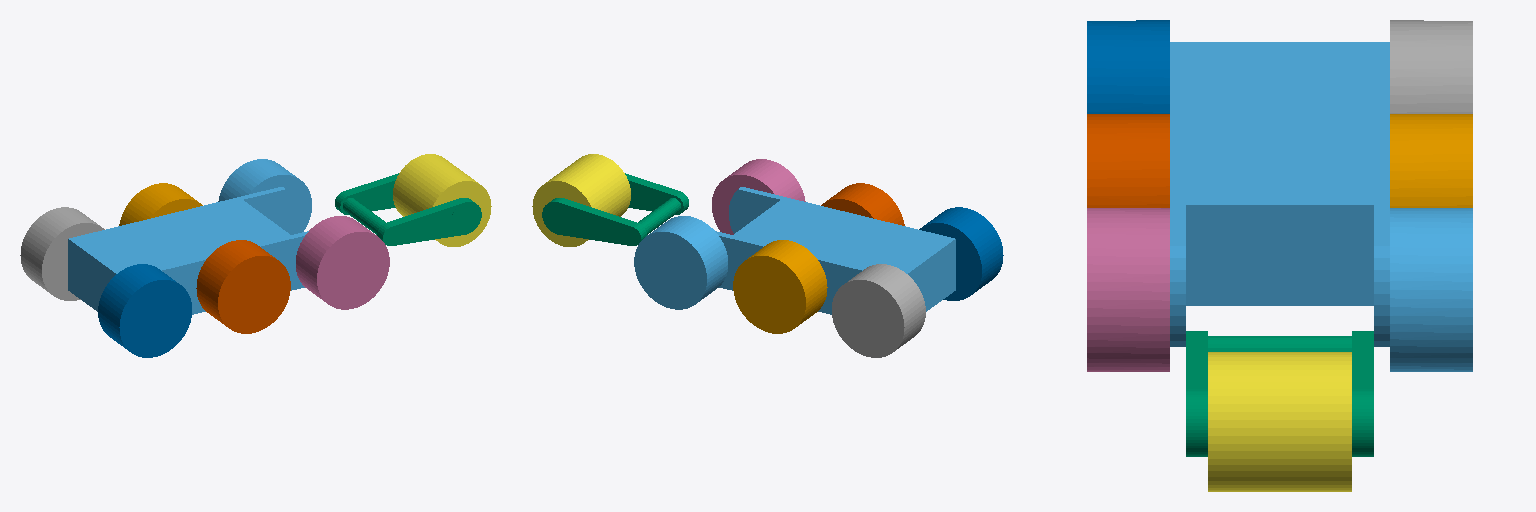
The robot description file, URDF, robot "fire_robot":
<?xml version="1.0" ?>
<!-- =================================================================================== -->
<!-- |    This document was autogenerated by xacro from [local-path]/fire_ws/install/fire_description/share/fire_description/urdf/fire_robot.xacro | -->
<!-- |    EDITING THIS FILE BY HAND IS NOT RECOMMENDED                                 | -->
<!-- =================================================================================== -->
<robot name="fire_robot">
  <!-- xacro 루트 링크에 inertial 있으면 경고 띄움. dummy용-->
  <link name="base_footprint"/>
  <joint name="base_footprint_joint" type="fixed">
    <parent link="base_footprint"/>
    <child link="base_link"/>
    <origin rpy="0 0 0" xyz="0 0 0"/>
  </joint>
  <!-- ========== base_link (루트) ========== -->
  <link name="base_link">
    <inertial>
      <origin rpy="0 0 0" xyz="0 0 0"/>
      <mass value="6.0"/>
      <inertia ixx="0.02" ixy="0" ixz="0" iyy="0.02" iyz="0" izz="0.02"/>
    </inertial>
    <visual>
      <origin rpy="0 0 0" xyz="0 0 0"/>
      <geometry>
        <mesh filename="package://fire_description/meshes/base_link_Body1.obj" scale="0.001 0.001 0.001"/>
      </geometry>
    </visual>
    <collision>
      <origin rpy="0 0 0" xyz="0 0 0"/>
      <geometry>
        <mesh filename="package://fire_description/meshes/base_link_Body1.obj" scale="0.001 0.001 0.001"/>
      </geometry>
    </collision>
  </link>
  <!-- ========== ARM ========== -->
  <joint name="arm_joint" type="revolute">
    <origin rpy="0 0 0" xyz="0.2765 0 0"/>
    <parent link="base_link"/>
    <child link="arm"/>
    <axis xyz="0 1 0"/>
    <limit effort="50" lower="-0.5" upper="0.5" velocity="1.0"/>
    <!-- dynamic damping -->
    <dynamics damping="0.05" friction="0.2"/>
  </joint>
  <link name="arm">
    <inertial>
      <origin rpy="0 0 0" xyz="0 0 0"/>
      <mass value="0.4"/>
      <inertia ixx="0.001" ixy="0" ixz="0" iyy="0.001" iyz="0" izz="0.001"/>
    </inertial>
    <visual>
      <origin rpy="0 0 0" xyz="0 0 0"/>
      <geometry>
        <mesh filename="package://fire_description/meshes/arm_Body1.obj" scale="0.001 0.001 0.001"/>
      </geometry>
    </visual>
    <collision>
      <origin rpy="0 0 0" xyz="0 0 0"/>
      <geometry>
        <mesh filename="package://fire_description/meshes/arm_Body1.obj" scale="0.001 0.001 0.001"/>
      </geometry>
    </collision>
  </link>
  <!-- ========== BLADE ========== -->
  <joint name="blade_joint" type="continuous">
    <origin rpy="0 0 0" xyz="0. 0 0"/>
    <parent link="arm"/>
    <child link="blade"/>
    <axis xyz="0 1 0"/>
    <limit effort="5.0" velocity="200.0"/>
    <dynamics damping="0.01" friction="0.05"/>
  </joint>
  <link name="blade">
    <inertial>
      <origin rpy="0 0 0" xyz="0 0 0"/>
      <mass value="2.7"/>
      <inertia ixx="0.005" ixy="0" ixz="0" iyy="0.005" iyz="0" izz="0.005"/>
    </inertial>
    <visual>
      <origin rpy="0 0 0" xyz="0 0 0"/>
      <geometry>
        <mesh filename="package://fire_description/meshes/blade_Body1.obj" scale="0.001 0.001 0.001"/>
      </geometry>
    </visual>
    <collision>
      <origin rpy="0 0 0" xyz="0 0 0"/>
      <geometry>
        <mesh filename="package://fire_description/meshes/blade_Body1.obj" scale="0.001 0.001 0.001"/>
      </geometry>
    </collision>
  </link>
  <!-- ========== LEFT WHEELS (parent=base_link) ========== -->
  <joint name="left_wheel_1_joint" type="continuous">
    <origin rpy="0 0 0" xyz="0 0 0"/>
    <parent link="base_link"/>
    <child link="left_wheel1"/>
    <axis xyz="0 1 0"/>
    <dynamics damping="0.05" friction="0.0"/>
    <limit effort="5.0" velocity="0.26"/>
  </joint>
  <link name="left_wheel1">
    <inertial>
      <origin rpy="0 0 0" xyz="0 0 0"/>
      <mass value="2.5"/>
      <inertia ixx="0.002" ixy="0" ixz="0" iyy="0.002" iyz="0" izz="0.002"/>
    </inertial>
    <visual>
      <origin rpy="0 0 0" xyz="0 0 0"/>
      <geometry>
        <mesh filename="package://fire_description/meshes/left_wheel1_Body1.obj" scale="0.001 0.001 0.001"/>
      </geometry>
    </visual>
    <collision>
      <origin rpy="0 0 0" xyz="0 0 0"/>
      <geometry>
        <mesh filename="package://fire_description/meshes/left_wheel1_Body1.obj" scale="0.001 0.001 0.001"/>
      </geometry>
    </collision>
  </link>
  <joint name="left_wheel_2_joint" type="continuous">
    <origin rpy="0 0 0" xyz="0 0 0"/>
    <parent link="base_link"/>
    <child link="left_wheel2"/>
    <axis xyz="0 1 0"/>
    <dynamics damping="0.05" friction="0.0"/>
    <limit effort="5.0" velocity="0.26"/>
  </joint>
  <link name="left_wheel2">
    <inertial>
      <origin rpy="0 0 0" xyz="0 0 0"/>
      <mass value="2.5"/>
      <inertia ixx="0.002" ixy="0" ixz="0" iyy="0.002" iyz="0" izz="0.002"/>
    </inertial>
    <visual>
      <origin rpy="0 0 0" xyz="0 0 0"/>
      <geometry>
        <mesh filename="package://fire_description/meshes/left_wheel2_Body1.obj" scale="0.001 0.001 0.001"/>
      </geometry>
    </visual>
    <collision>
      <origin rpy="0 0 0" xyz="0 0 0"/>
      <geometry>
        <mesh filename="package://fire_description/meshes/left_wheel2_Body1.obj" scale="0.001 0.001 0.001"/>
      </geometry>
    </collision>
  </link>
  <joint name="left_wheel_3_joint" type="continuous">
    <origin rpy="0 0 0" xyz="0 0 0"/>
    <parent link="base_link"/>
    <child link="left_wheel3"/>
    <axis xyz="0 1 0"/>
    <dynamics damping="0.05" friction="0.0"/>
    <limit effort="5.0" velocity="0.26"/>
  </joint>
  <link name="left_wheel3">
    <inertial>
      <origin rpy="0 0 0" xyz="0 0 0"/>
      <mass value="2.5"/>
      <inertia ixx="0.002" ixy="0" ixz="0" iyy="0.002" iyz="0" izz="0.002"/>
    </inertial>
    <visual>
      <origin rpy="0 0 0" xyz="0 0 0"/>
      <geometry>
        <mesh filename="package://fire_description/meshes/left_wheel3_Body1.obj" scale="0.001 0.001 0.001"/>
      </geometry>
    </visual>
    <collision>
      <origin rpy="0 0 0" xyz="0 0 0"/>
      <geometry>
        <mesh filename="package://fire_description/meshes/left_wheel3_Body1.obj" scale="0.001 0.001 0.001"/>
      </geometry>
    </collision>
  </link>
  <!-- ========== RIGHT WHEELS ========== -->
  <joint name="right_wheel_1_joint" type="continuous">
    <origin rpy="0 0 0" xyz="0 0 0"/>
    <parent link="base_link"/>
    <child link="right_wheel1"/>
    <axis xyz="0 1 0"/>
    <dynamics damping="0.05" friction="0.0"/>
    <limit effort="5.0" velocity="0.26"/>
  </joint>
  <link name="right_wheel1">
    <inertial>
      <origin rpy="0 0 0" xyz="0 0 0"/>
      <mass value="2.5"/>
      <inertia ixx="0.002" ixy="0" ixz="0" iyy="0.002" iyz="0" izz="0.002"/>
    </inertial>
    <visual>
      <origin rpy="0 0 0" xyz="0 0 0"/>
      <geometry>
        <mesh filename="package://fire_description/meshes/right_wheel1_Body1.obj" scale="0.001 0.001 0.001"/>
      </geometry>
    </visual>
    <collision>
      <origin rpy="0 0 0" xyz="0 0 0"/>
      <geometry>
        <mesh filename="package://fire_description/meshes/right_wheel1_Body1.obj" scale="0.001 0.001 0.001"/>
      </geometry>
    </collision>
  </link>
  <joint name="right_wheel_2_joint" type="continuous">
    <origin rpy="0 0 0" xyz="0 0 0"/>
    <parent link="base_link"/>
    <child link="right_wheel2"/>
    <axis xyz="0 1 0"/>
    <dynamics damping="0.05" friction="0.0"/>
    <limit effort="5.0" velocity="0.26"/>
  </joint>
  <link name="right_wheel2">
    <inertial>
      <origin rpy="0 0 0" xyz="0 0 0"/>
      <mass value="2.5"/>
      <inertia ixx="0.002" ixy="0" ixz="0" iyy="0.002" iyz="0" izz="0.002"/>
    </inertial>
    <visual>
      <origin rpy="0 0 0" xyz="0 0 0"/>
      <geometry>
        <mesh filename="package://fire_description/meshes/right_wheel2_Body1.obj" scale="0.001 0.001 0.001"/>
      </geometry>
    </visual>
    <collision>
      <origin rpy="0 0 0" xyz="0 0 0"/>
      <geometry>
        <mesh filename="package://fire_description/meshes/right_wheel2_Body1.obj" scale="0.001 0.001 0.001"/>
      </geometry>
    </collision>
  </link>
  <joint name="right_wheel_3_joint" type="continuous">
    <origin rpy="0 0 0" xyz="0 0 0"/>
    <parent link="base_link"/>
    <child link="right_wheel3"/>
    <axis xyz="0 1 0"/>
    <dynamics damping="0.05" friction="0.0"/>
    <limit effort="5.0" velocity="0.26"/>
  </joint>
  <link name="right_wheel3">
    <inertial>
      <origin rpy="0 0 0" xyz="0 0 0"/>
      <mass value="2.5"/>
      <inertia ixx="0.002" ixy="0" ixz="0" iyy="0.002" iyz="0" izz="0.002"/>
    </inertial>
    <visual>
      <origin rpy="0 0 0" xyz="0 0 0"/>
      <geometry>
        <mesh filename="package://fire_description/meshes/right_wheel3_Body1.obj" scale="0.001 0.001 0.001"/>
      </geometry>
    </visual>
    <collision>
      <origin rpy="0 0 0" xyz="0 0 0"/>
      <geometry>
        <mesh filename="package://fire_description/meshes/right_wheel3_Body1.obj" scale="0.001 0.001 0.001"/>
      </geometry>
    </collision>
  </link>
  <!-- ros2_control 선언: 모던 Gazebo용 시스템 플러그인, gazebo classic 버전말고 ignition 버전으로!! -->
  <ros2_control name="GazeboSystem" type="system">
    <hardware>
      <plugin>gz_ros2_control/GazeboSimSystem</plugin>
    </hardware>
    <!-- Arm : position 명령-->
    <joint name="arm_joint">
      <command_interface name="position"/>
      <state_interface name="position"/>
      <state_interface name="velocity"/>
      <state_interface name="effort"/>
    </joint>
    <!-- Blade : velocity 명령-->
    <joint name="blade_joint">
      <command_interface name="velocity"/>
      <state_interface name="position"/>
      <state_interface name="velocity"/>
      <state_interface name="effort"/>
    </joint>
    <!-- Wheels : velocity 명령-->
    <joint name="left_wheel_1_joint">
      <command_interface name="velocity"/>
      <state_interface name="position"/>
      <state_interface name="velocity"/>
    </joint>
    <joint name="left_wheel_2_joint">
      <command_interface name="velocity"/>
      <state_interface name="position"/>
      <state_interface name="velocity"/>
    </joint>
    <joint name="left_wheel_3_joint">
      <command_interface name="velocity"/>
      <state_interface name="position"/>
      <state_interface name="velocity"/>
    </joint>
    <joint name="right_wheel_1_joint">
      <command_interface name="velocity"/>
      <state_interface name="position"/>
      <state_interface name="velocity"/>
    </joint>
    <joint name="right_wheel_2_joint">
      <command_interface name="velocity"/>
      <state_interface name="position"/>
      <state_interface name="velocity"/>
    </joint>
    <joint name="right_wheel_3_joint">
      <command_interface name="velocity"/>
      <state_interface name="position"/>
      <state_interface name="velocity"/>
    </joint>
  </ros2_control>
  <!-- Gazebo 플러그인: 컨트롤러 매니저와 YAML 연결; gazebo classic 버전말고 ignition 버전으로!! -->
  <gazebo>
    <plugin filename="libgz_ros2_control-system.so" name="gz_ros2_control">
      <parameters>&quot;[local-path]/fire_ws/install/fire_bringup/share/fire_bringup/share/fire_bringup/config/controller.yaml&quot;</parameters>
    </plugin>
  </gazebo>
</robot>

--- What the picture shows (computed from the rendered views, not written in the file) ---
The picture shows the robot from 3 angles, left to right: view 1: azimuth 30°, elevation 25°; view 2: azimuth 150°, elevation 25°; view 3: azimuth 270°, elevation 25°; orthographic projection.
Robot: fire_robot — 10 links, 9 joints (1 revolute, 7 continuous, 1 fixed); root link base_footprint; default pose: all joints at 0.
Links seen in each view (by area): view 1: base_link, left_wheel2, left_wheel1, left_wheel3, arm, blade, right_wheel1, right_wheel3, right_wheel2; view 2: base_link, right_wheel2, right_wheel1, right_wheel3, arm, blade, left_wheel1, left_wheel3, left_wheel2; view 3: base_link, blade, left_wheel3, right_wheel3, arm, left_wheel2, right_wheel2, left_wheel1, right_wheel1.
Link boxes in pixels (x1=…): base_link: x1=68, y1=187, x2=308, y2=314; left_wheel2: x1=196, y1=240, x2=290, y2=333; left_wheel1: x1=98, y1=264, x2=191, y2=357; left_wheel3: x1=296, y1=216, x2=389, y2=309; arm: x1=335, y1=173, x2=481, y2=245; blade: x1=393, y1=154, x2=491, y2=246; right_wheel1: x1=20, y1=207, x2=104, y2=300; right_wheel3: x1=218, y1=159, x2=311, y2=234; right_wheel2: x1=119, y1=183, x2=202, y2=225; base_link: x1=715, y1=187, x2=955, y2=314; right_wheel2: x1=733, y1=240, x2=827, y2=333; right_wheel1: x1=832, y1=264, x2=925, y2=357; right_wheel3: x1=634, y1=216, x2=727, y2=309; arm: x1=542, y1=173, x2=688, y2=245; blade: x1=532, y1=154, x2=630, y2=246; left_wheel1: x1=919, y1=207, x2=1003, y2=300; left_wheel3: x1=712, y1=159, x2=805, y2=234; left_wheel2: x1=821, y1=183, x2=904, y2=225; base_link: x1=1170, y1=42, x2=1389, y2=346; blade: x1=1208, y1=352, x2=1351, y2=491; left_wheel3: x1=1087, y1=208, x2=1169, y2=371; right_wheel3: x1=1390, y1=208, x2=1472, y2=371; arm: x1=1186, y1=331, x2=1373, y2=456; left_wheel2: x1=1087, y1=114, x2=1169, y2=207; right_wheel2: x1=1390, y1=114, x2=1472, y2=207; left_wheel1: x1=1087, y1=20, x2=1169, y2=113; right_wheel1: x1=1390, y1=20, x2=1472, y2=113.
Bounding box of the posed robot: 1.3 × 0.5549 × 0.2358 m (x, y, z).
Meshes: 9 distinct files referenced, 9 mesh visuals loaded (9 OBJ).
